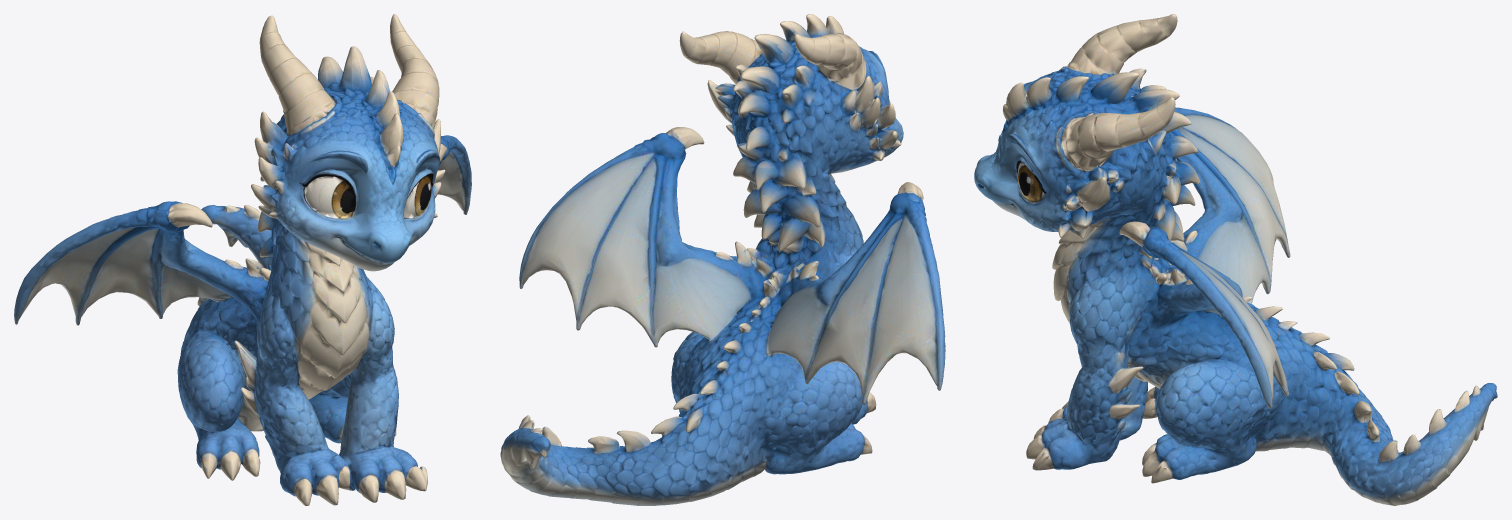
File: comparison-meshy-single.glb
3 views of the same model, side by side, from view 1: azimuth 30°, elevation 25°; view 2: azimuth 150°, elevation 25°; view 3: azimuth 270°, elevation 25° (orthographic). The views are drawn at different scales.
Bounding box in the file's own units: 1.8 × 1.71 × 1.9.
1 material, 1 textured.
